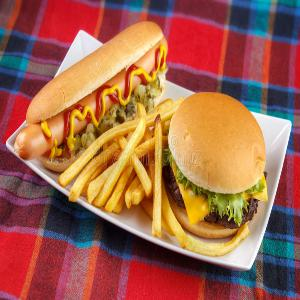cheeseburger: (173, 89, 272, 261)
fries: (67, 98, 172, 229)
